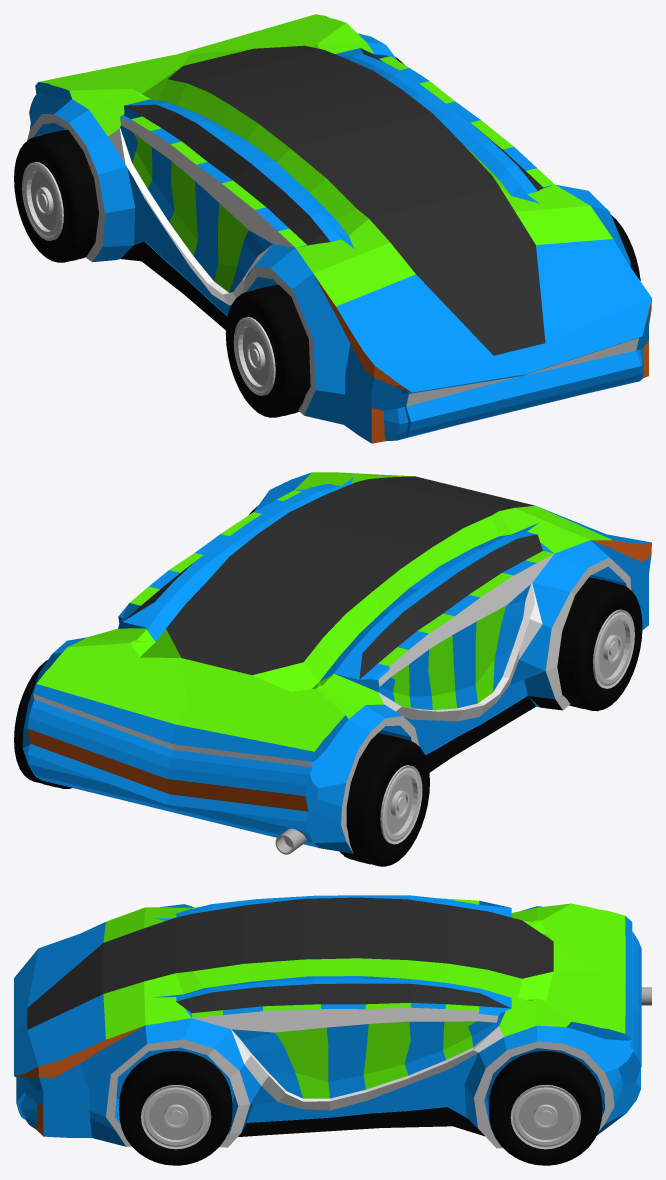
3 views of the same model, one above another, from view 1: azimuth 30°, elevation 25°; view 2: azimuth 150°, elevation 25°; view 3: azimuth 270°, elevation 25° (orthographic). The views are drawn at different scales.
Visible parts, largest first — view 1: BODY41A, WHEEL.001, WHEEL.004; view 2: BODY41A, WHEEL.004, WHEEL.001, WHEEL.002, SHACMAN; view 3: BODY41A, WHEEL.002, WHEEL.003.
Boxes of the visible parts, x1,y1,x2,y2 form: BODY41A: (27, 14, 651, 443); WHEEL.001: (225, 285, 310, 417); WHEEL.004: (14, 130, 98, 262); BODY41A: (22, 472, 651, 853); WHEEL.004: (340, 733, 429, 866); WHEEL.001: (557, 577, 642, 711); WHEEL.002: (14, 660, 71, 788); SHACMAN: (275, 828, 306, 854); BODY41A: (14, 895, 641, 1148); WHEEL.002: (488, 1051, 602, 1165); WHEEL.003: (119, 1051, 232, 1165).
Bounding box in the file's own units: 134 × 67.41 × 236.
